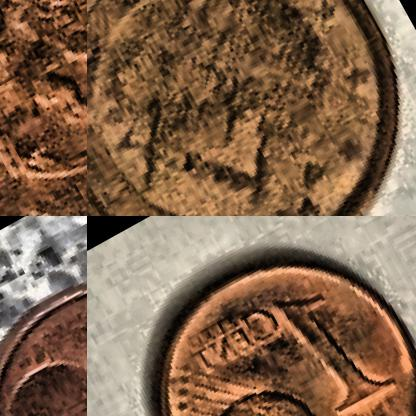coin: (87, 0, 415, 215), (105, 216, 415, 415), (0, 0, 86, 215), (0, 236, 86, 415)
